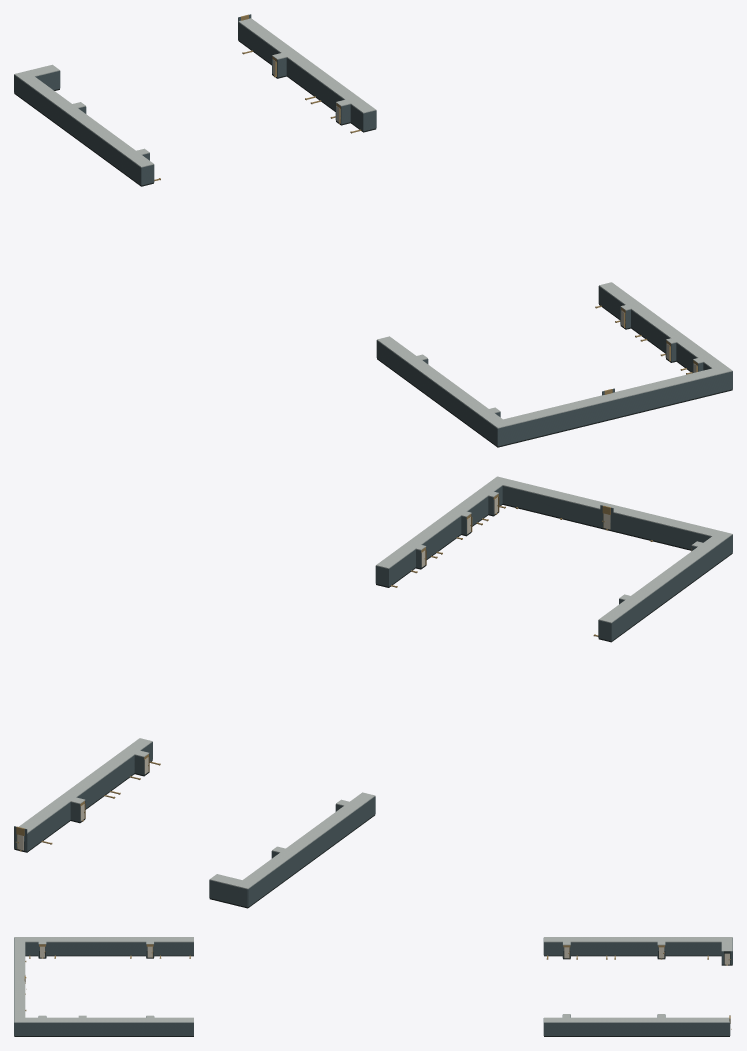
Rendered from D04_PORT_AFT_COURT_ROUTES_r003.glb.
3 views of the same model, one above another, from view 1: azimuth 30°, elevation 25°; view 2: azimuth 150°, elevation 25°; view 3: azimuth 270°, elevation 25° (orthographic). The views are drawn at different scales.
Visible parts, largest first — view 1: PAR_Roof1, PAR_Wall1_5_0, PAR_Wall0_1_0, PAR_Wall1_2_0, PAR_Roof0, PAR_Roof2, PAR_Wall2_11_0, PAR_Floor1; view 2: PAR_Roof1, PAR_Wall0_1_0, PAR_Wall1_2_0, PAR_Roof0, PAR_Wall1_23_1, PAR_Roof2, PAR_Wall1_23_0, PAR_Wall2_11_0, PAR_Wall2_7_0, PAR_Floor1; view 3: PAR_Roof1, PAR_Wall2_5_0, PAR_Wall1_8_0, PAR_Wall1_28_0, PAR_Roof0, PAR_Wall0_7_0, PAR_Roof2, PAR_Wall0_11_0, PAR_Wall1_0_0, PAR_Floor1, PAR_Floor0, PAR_Wall0_3_0 (+1 smaller).
Boxes of the visible parts, x1,y1,x2,y2 form: PAR_Roof1: [377, 282, 732, 428]; PAR_Wall1_5_0: [510, 374, 719, 443]; PAR_Wall0_1_0: [14, 74, 141, 184]; PAR_Wall1_2_0: [376, 340, 489, 440]; PAR_Roof0: [14, 64, 153, 167]; PAR_Roof2: [238, 18, 375, 113]; PAR_Wall2_11_0: [286, 58, 344, 110]; PAR_Floor1: [377, 304, 732, 447]; PAR_Roof1: [376, 476, 732, 623]; PAR_Wall0_1_0: [248, 796, 375, 906]; PAR_Wall1_2_0: [611, 540, 725, 640]; PAR_Roof0: [209, 792, 375, 889]; PAR_Wall1_23_1: [502, 486, 603, 527]; PAR_Roof2: [19, 738, 152, 833]; PAR_Wall1_23_0: [611, 512, 711, 549]; PAR_Wall2_11_0: [77, 755, 134, 808]; PAR_Wall2_7_0: [27, 802, 70, 851]; PAR_Floor1: [376, 504, 732, 642]; PAR_Roof1: [14, 937, 193, 1022]; PAR_Wall2_5_0: [544, 1022, 729, 1035]; PAR_Wall1_8_0: [25, 1022, 193, 1035]; PAR_Wall1_28_0: [46, 942, 145, 955]; PAR_Roof0: [544, 937, 732, 951]; PAR_Wall0_7_0: [571, 942, 657, 955]; PAR_Roof2: [544, 1014, 729, 1022]; PAR_Wall0_11_0: [665, 942, 721, 955]; PAR_Wall1_0_0: [154, 942, 193, 955]; PAR_Floor1: [14, 951, 193, 1036]; PAR_Floor0: [544, 951, 732, 965]; PAR_Wall0_3_0: [544, 942, 562, 955].
Bounding box in the file's own units: 44.32 × 4.22 × 158.
Materials: 7 (7 with a texture image).
